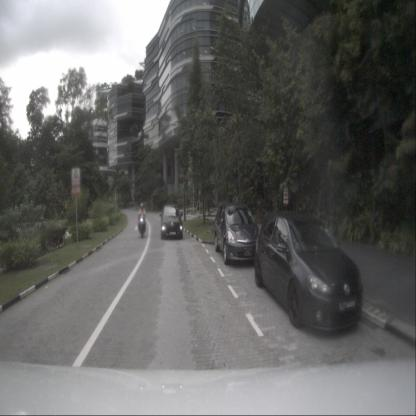vehicle-car: (254, 209, 362, 331), (214, 202, 262, 264), (160, 203, 183, 240)
vehicle-motorcycle: (137, 203, 147, 238)
